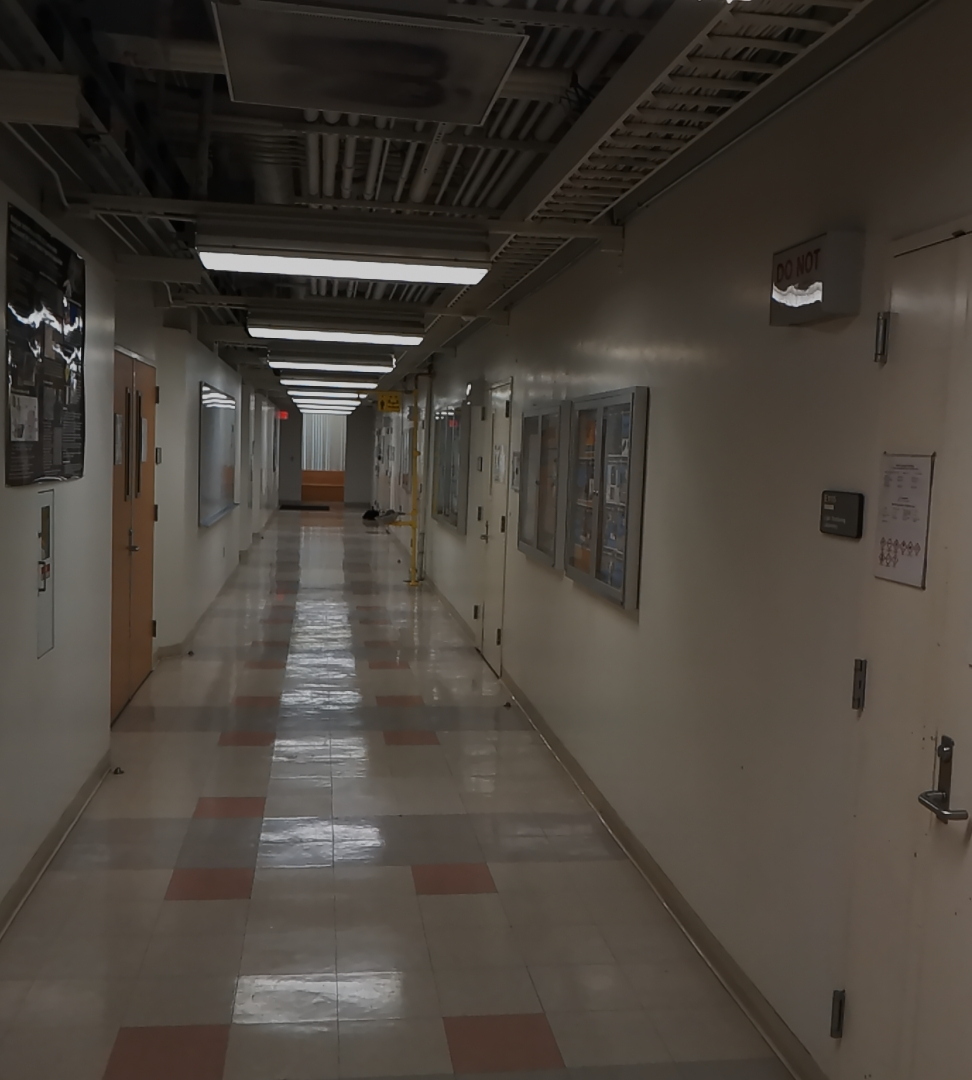emergency_exit: (765, 226, 863, 328)
